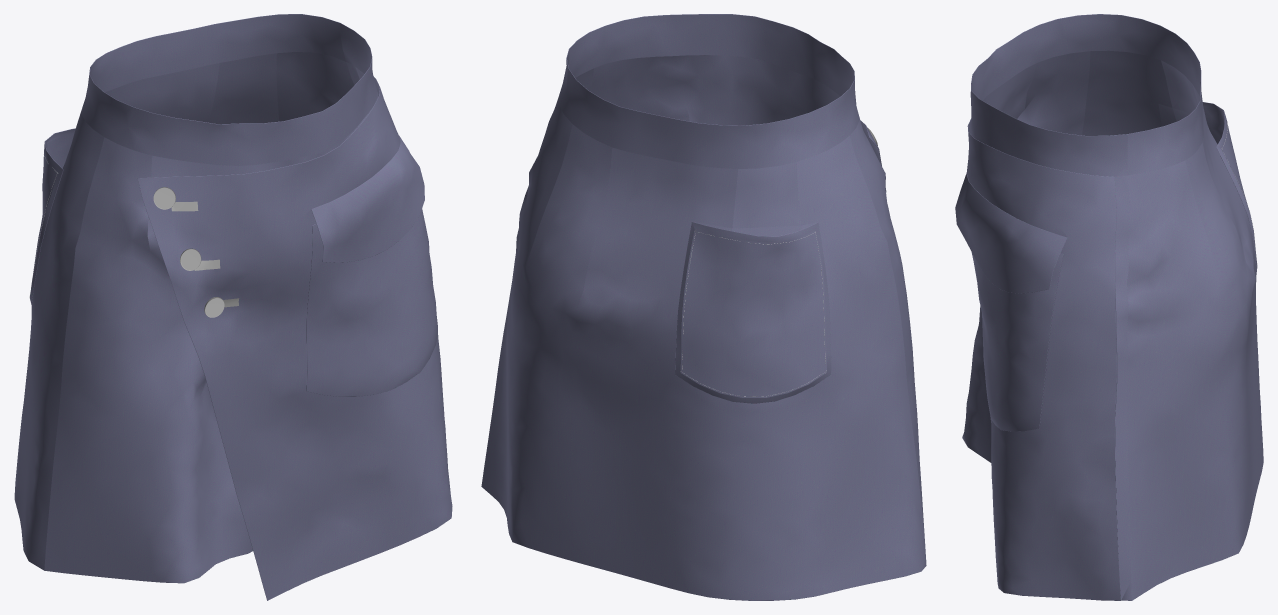
3 views of the same model, side by side, from view 1: azimuth 30°, elevation 25°; view 2: azimuth 150°, elevation 25°; view 3: azimuth 270°, elevation 25° (orthographic). The views are drawn at different scales.
Parts seen in each view (by area): view 1: Pattern2D_447218, Pattern2D_50967, Pattern2D_215201, SKIRT1WAB, Pattern2D_447219, Pattern2D_447220, Pattern2D_447221; view 2: Pattern2D_215201, SKIRT1WAB, Pattern2D_447221, Pattern2D_50967; view 3: Pattern2D_215201, Pattern2D_447218, SKIRT1WAB, Pattern2D_50967, Pattern2D_447219, Pattern2D_447220, Pattern2D_447221.
Part boxes in pixels (<box>): Pattern2D_447218: <box>138,76,452,600</box>; Pattern2D_50967: <box>44,62,378,583</box>; Pattern2D_215201: <box>14,52,354,570</box>; SKIRT1WAB: <box>82,14,377,165</box>; Pattern2D_447219: <box>306,208,437,396</box>; Pattern2D_447220: <box>311,135,424,262</box>; Pattern2D_447221: <box>30,128,75,304</box>; Pattern2D_215201: <box>481,96,926,600</box>; SKIRT1WAB: <box>559,14,859,169</box>; Pattern2D_447221: <box>675,222,831,403</box>; Pattern2D_50967: <box>481,55,924,539</box>; Pattern2D_215201: <box>1082,50,1263,600</box>; Pattern2D_447218: <box>966,118,1120,600</box>; SKIRT1WAB: <box>970,14,1203,176</box>; Pattern2D_50967: <box>962,51,1131,600</box>; Pattern2D_447219: <box>971,252,1063,431</box>; Pattern2D_447220: <box>955,173,1067,293</box>; Pattern2D_447221: <box>1202,102,1257,271</box>.
Size of the model in its own units: 42.53 by 48.84 by 28.75.
